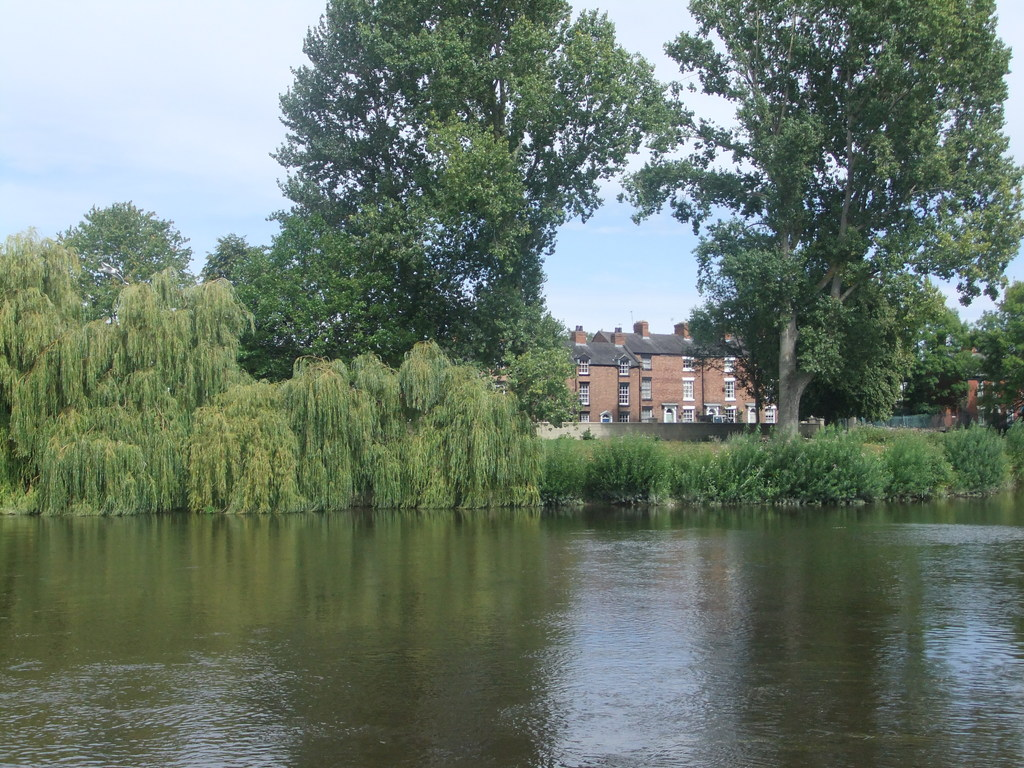Tree: (261, 0, 693, 385), (0, 219, 542, 517), (657, 39, 983, 466), (51, 194, 197, 314), (202, 228, 298, 378), (901, 293, 981, 419), (968, 275, 1023, 419)
